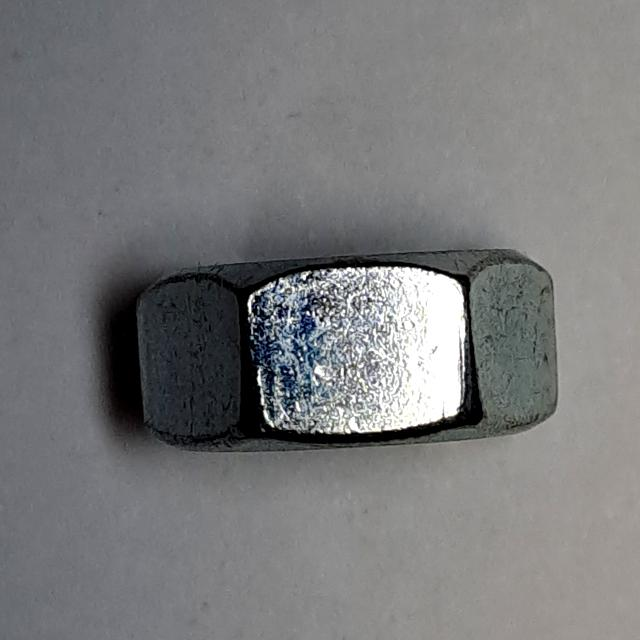Side_Excellent: (126, 203, 575, 499)
